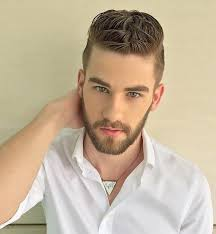white_male: (74, 50, 163, 152)
